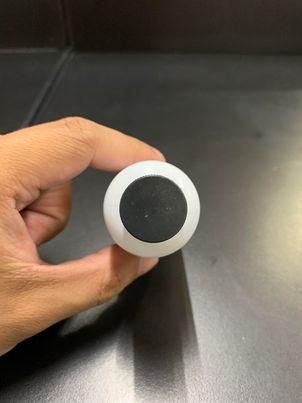-Bottle-: (103, 160, 202, 257)
